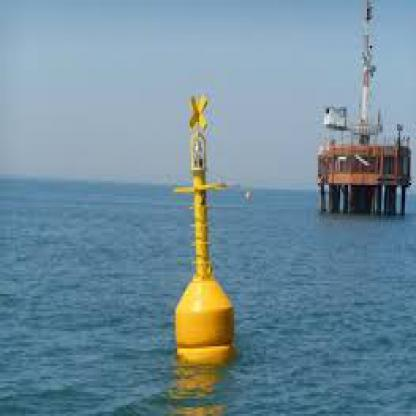buoy: (157, 89, 254, 368)
